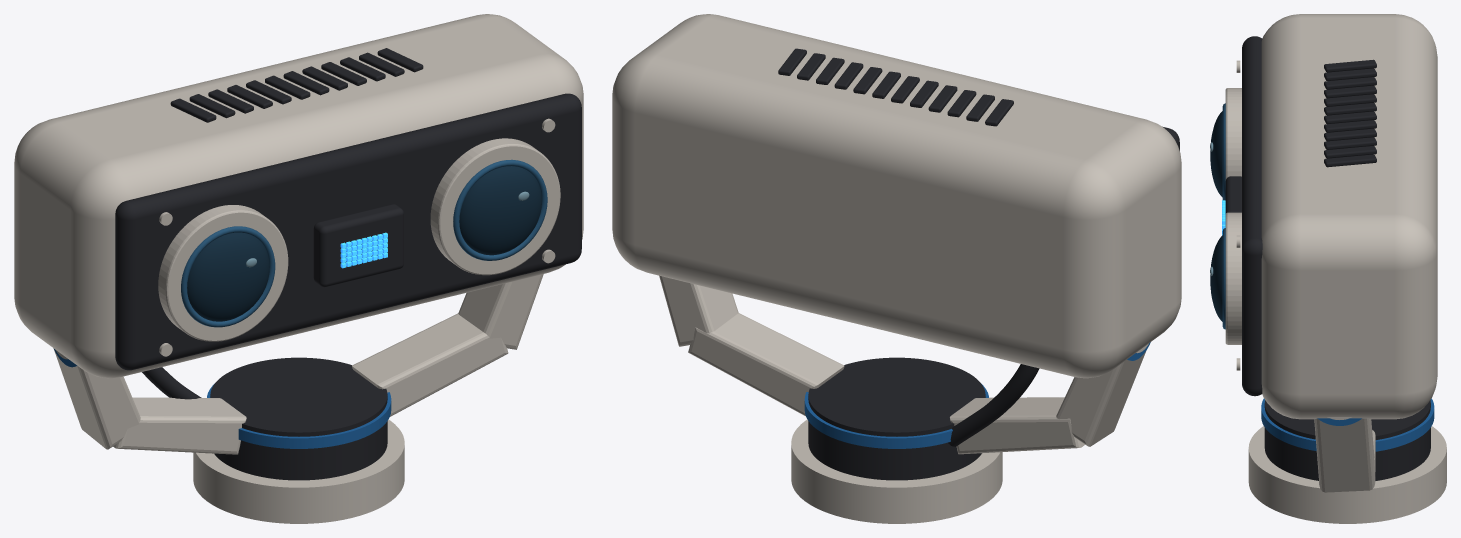
Rendered from anatomy-45.glb.
The picture shows the model from 3 angles, left to right: view 1: azimuth 30°, elevation 25°; view 2: azimuth 150°, elevation 25°; view 3: azimuth 270°, elevation 25°; orthographic projection. The views are drawn at different scales.
Visible parts, largest first — view 1: hood, bezel, base, yoke, right, left, emitter, vents, cable; view 2: hood, base, yoke, vents, cable; view 3: hood, base, bezel, vents, yoke, right, left, emitter, pivots.
Part boxes in pixels (bbox=[...]): hood: bbox=[14, 14, 583, 378]; bezel: bbox=[115, 93, 581, 370]; base: bbox=[193, 357, 404, 523]; yoke: bbox=[54, 274, 543, 454]; right: bbox=[430, 138, 560, 275]; left: bbox=[158, 205, 288, 341]; emitter: bbox=[313, 204, 403, 287]; vents: bbox=[170, 48, 423, 122]; cable: bbox=[142, 367, 201, 399]; hood: bbox=[612, 14, 1181, 378]; base: bbox=[791, 357, 1002, 523]; yoke: bbox=[659, 275, 1145, 454]; vents: bbox=[778, 48, 1013, 126]; cable: bbox=[948, 364, 1039, 446]; hood: bbox=[1261, 14, 1437, 419]; base: bbox=[1248, 398, 1446, 523]; bezel: bbox=[1242, 36, 1262, 396]; vents: bbox=[1324, 59, 1376, 167]; yoke: bbox=[1314, 418, 1375, 492]; right: bbox=[1210, 212, 1241, 344]; left: bbox=[1210, 88, 1241, 200]; emitter: bbox=[1222, 176, 1241, 235]; pivots: bbox=[1317, 417, 1361, 425].
Size of the model in its own units: 2.05 by 1.53 by 0.8842.
